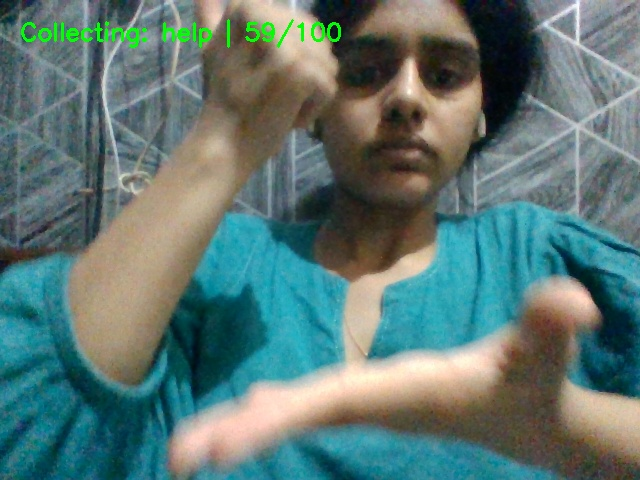help: (148, 218, 618, 456)
